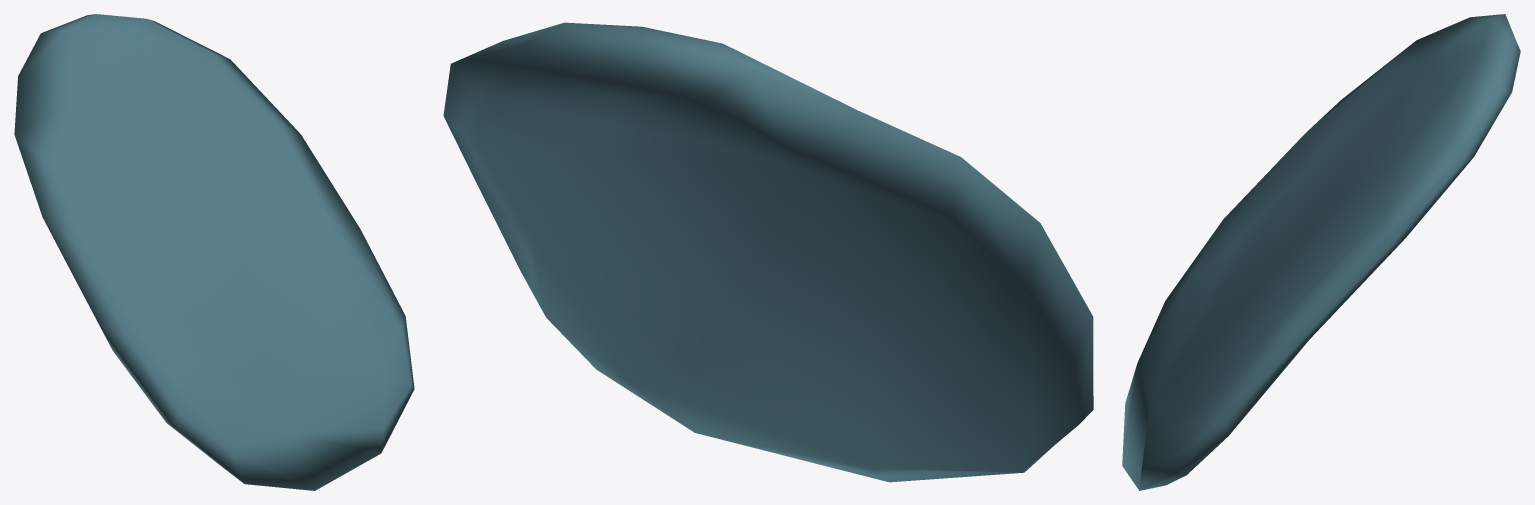
Rendered from Extensor_digitorum-middle_phalanx-3d_finger.l_Generated_Mesh_Fr.glb.
The picture shows the model from 3 angles, left to right: view 1: azimuth 30°, elevation 25°; view 2: azimuth 150°, elevation 25°; view 3: azimuth 270°, elevation 25°; orthographic projection. The views are drawn at different scales.
Visible parts, largest first — view 1: Extensor_digitorum-middle_phalanx-3d_finger.l_Generated_Mesh; view 2: Extensor_digitorum-middle_phalanx-3d_finger.l_Generated_Mesh; view 3: Extensor_digitorum-middle_phalanx-3d_finger.l_Generated_Mesh.
Part boxes in pixels (x1,y1,x2,y2): Extensor_digitorum-middle_phalanx-3d_finger.l_Generated_Mesh: (14,14,414,490); Extensor_digitorum-middle_phalanx-3d_finger.l_Generated_Mesh: (443,22,1093,482); Extensor_digitorum-middle_phalanx-3d_finger.l_Generated_Mesh: (1122,14,1520,490).
Size of the model in its own units: 0.00408 by 0.00454 by 0.00406.
